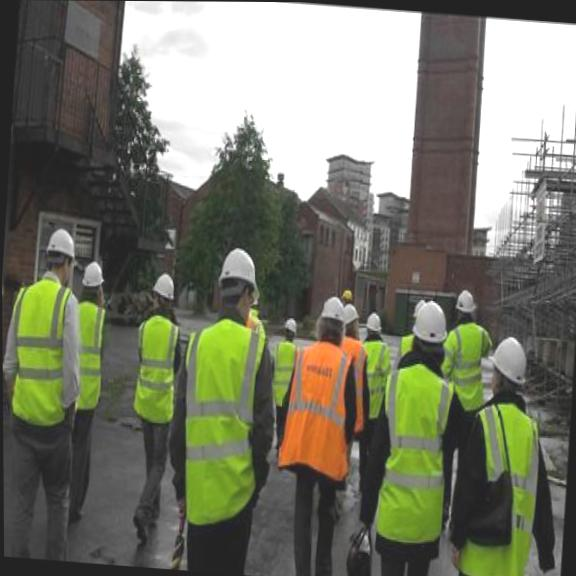safety_vest: (171, 320, 268, 529), (454, 399, 547, 576), (373, 358, 459, 547), (277, 337, 359, 480), (7, 277, 76, 424), (131, 316, 183, 423), (441, 317, 497, 411), (68, 301, 109, 412), (335, 337, 370, 432), (360, 332, 396, 420), (270, 336, 300, 404), (399, 327, 419, 360)
